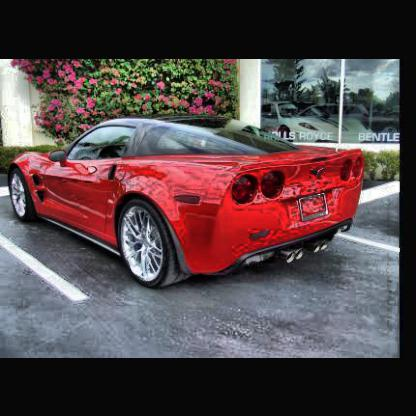Chevrolet Corvette ZR1 2012: (8, 110, 374, 300)
